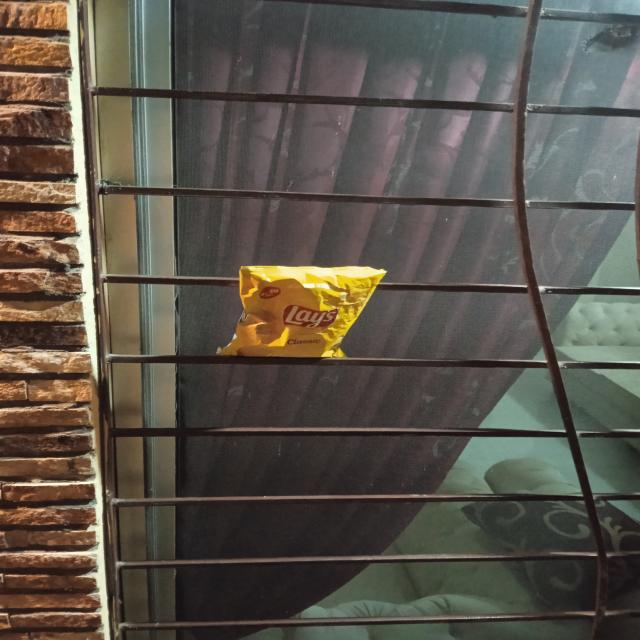Plastic: (234, 268, 382, 356)
